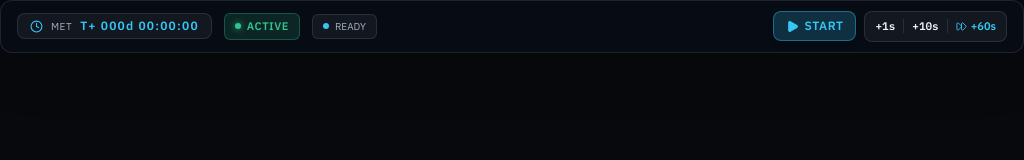
Test case: Phase 6.2 Live Mission Dashboard Verification › 6. Audit Hardening & Boundary Tests (MIN-01 & MIN-03) › dismisses runtime error alert and clears snapshot error (Audit MIN-01)
Click the button "+1s". click: (885, 26)
box: [868,14,903,38]
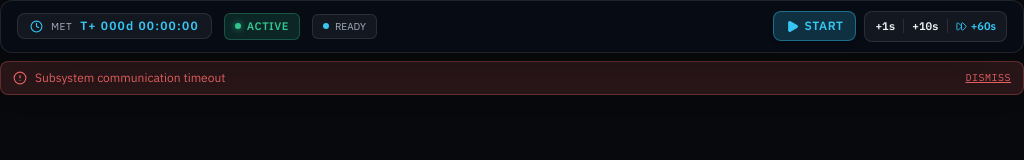
Expected: the text "Subsystem communication timeout" is shown, [35,70,226,86]
Click Dismiss
Click the button "Dismiss". click: (988, 77)
box: [966,71,1011,84]
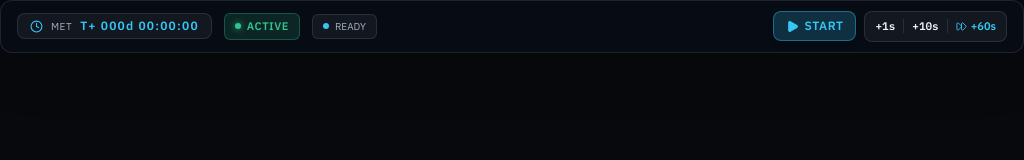
Expected: the text "Subsystem communication timeout" is gone
